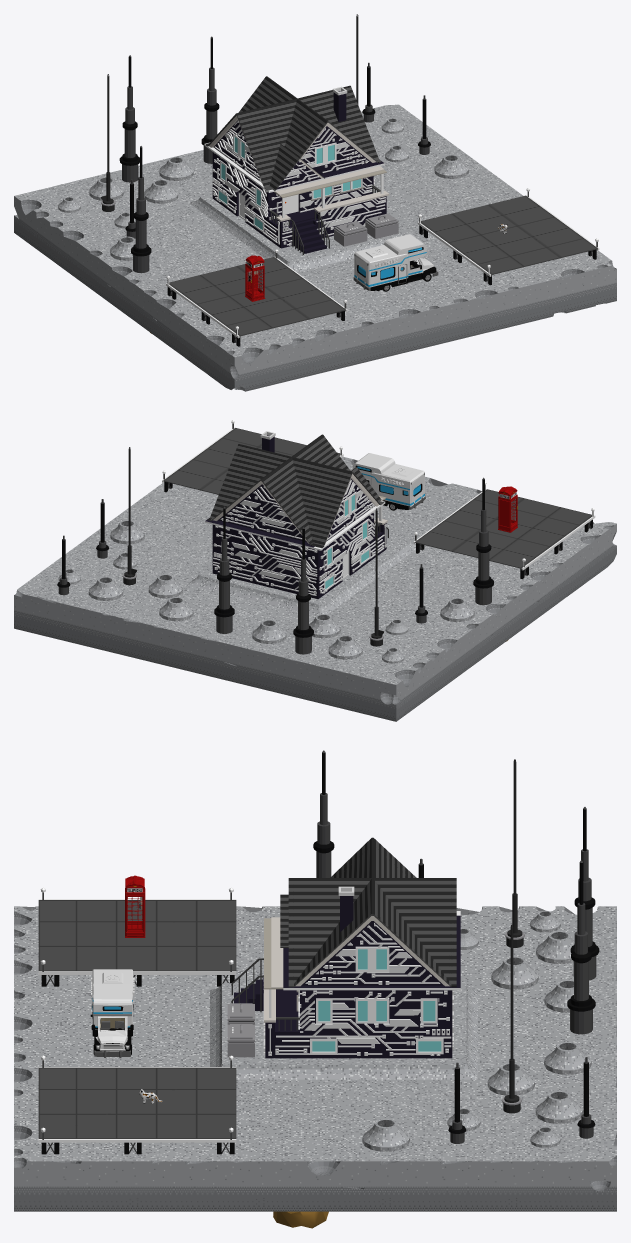
3 renders of one model, top to bottom at view 1: azimuth 30°, elevation 25°; view 2: azimuth 150°, elevation 25°; view 3: azimuth 270°, elevation 25°, orthographic. The views are drawn at different scales.
Visible parts, largest first — view 1: Cube.027, Cube.918, Cube.026, Cube.025, Cube.028, VEHICLES_CAMPER, Cylinder.020, Cylinder.021, Cylinder.017, OBJRANDOM_PHONEBOOTH, Cube.029, Cube.030 (+5 smaller); view 2: Cube.027, Cube.918, Cube.025, Cube.028, Cube.026, VEHICLES_CAMPER, Cylinder.017, Cylinder.021, Cylinder.020, OBJRANDOM_PHONEBOOTH, Cylinder.028, Cylinder.030 (+8 smaller); view 3: Cube.027, Cube.918, Cube.026, Cube.025, Cube.028, VEHICLES_CAMPER, Cylinder.017, Cylinder.020, Cylinder.021, Cylinder.031, Cylinder.033, OBJRANDOM_PHONEBOOTH (+11 smaller).
Part boxes in pixels (left/top/right/bottom): Cube.027: left=14, top=104, right=616, bottom=391; Cube.918: left=204, top=76, right=389, bottom=254; Cube.026: left=417, top=188, right=599, bottom=285; Cube.025: left=166, top=249, right=347, bottom=346; Cube.028: left=190, top=193, right=421, bottom=271; VEHICLES_CAMPER: left=353, top=234, right=438, bottom=291; Cylinder.020: left=119, top=55, right=139, bottom=182; Cylinder.021: left=131, top=146, right=151, bottom=273; Cylinder.017: left=201, top=36, right=219, bottom=163; OBJRANDOM_PHONEBOOTH: left=245, top=255, right=265, bottom=301; Cube.029: left=334, top=221, right=367, bottom=246; Cube.030: left=365, top=213, right=398, bottom=238; Cube.027: left=14, top=456, right=616, bottom=721; Cube.918: left=205, top=431, right=388, bottom=599; Cube.025: left=413, top=481, right=595, bottom=579; Cube.028: left=188, top=534, right=415, bottom=615; Cube.026: left=162, top=420, right=343, bottom=494; VEHICLES_CAMPER: left=352, top=453, right=425, bottom=510; Cylinder.017: left=214, top=506, right=234, bottom=633; Cylinder.021: left=473, top=477, right=493, bottom=605; Cylinder.020: left=293, top=527, right=313, bottom=654; OBJRANDOM_PHONEBOOTH: left=498, top=486, right=517, bottom=532; Cylinder.028: left=328, top=635, right=362, bottom=659; Cylinder.030: left=148, top=574, right=182, bottom=598; Cube.027: left=14, top=906, right=616, bottom=1211; Cube.918: left=231, top=837, right=460, bottom=1058; Cube.026: left=38, top=1055, right=236, bottom=1154; Cube.025: left=38, top=887, right=236, bottom=986; Cube.028: left=210, top=983, right=477, bottom=1079; VEHICLES_CAMPER: left=90, top=969, right=134, bottom=1057; Cylinder.017: left=567, top=860, right=595, bottom=1034; Cylinder.020: left=570, top=807, right=599, bottom=980; Cylinder.021: left=313, top=750, right=334, bottom=877; Cylinder.031: left=535, top=1091, right=583, bottom=1123; Cylinder.033: left=362, top=1119, right=409, bottom=1151; OBJRANDOM_PHONEBOOTH: left=125, top=875, right=145, bottom=937.
Size of the model in its own units: 4000 by 1912 by 4000.
Materials: 45 (4 with a texture image).
